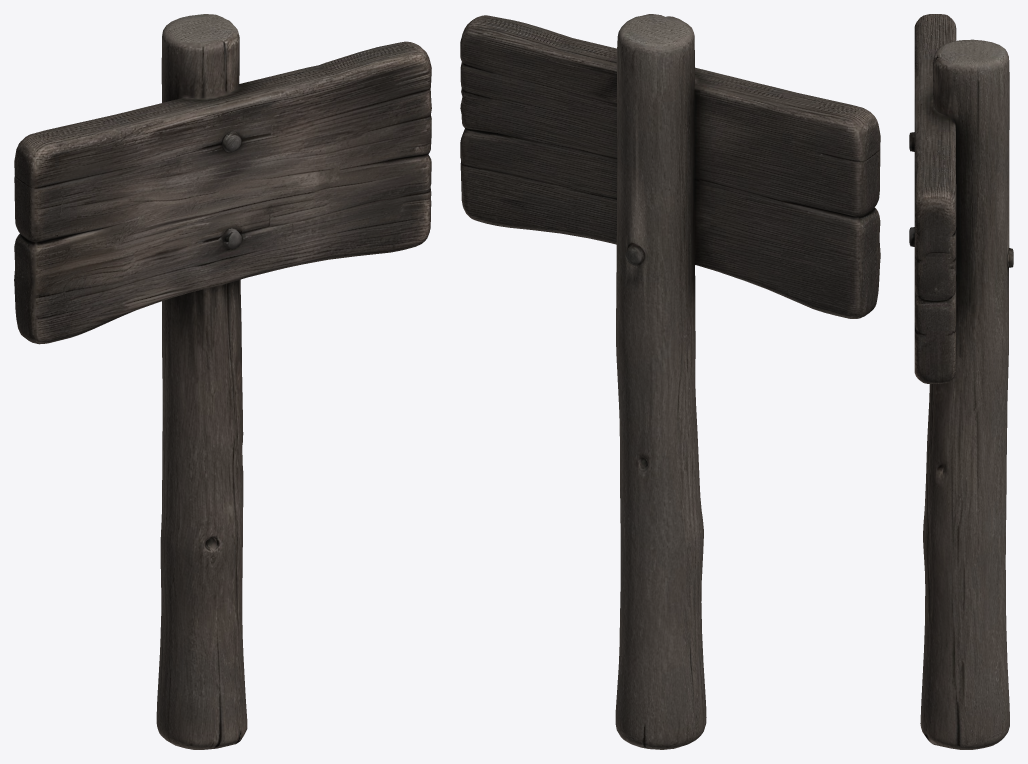
The model's file is away_sign.glb.
3 renders of one model, left to right at view 1: azimuth 30°, elevation 25°; view 2: azimuth 150°, elevation 25°; view 3: azimuth 270°, elevation 25°, orthographic. The views are drawn at different scales.
Visible parts, largest first — view 1: away_sign; view 2: away_sign; view 3: away_sign.
Boxes of the visible parts, x1,y1,x2,y2 form: away_sign: (14, 14, 431, 749); away_sign: (460, 14, 880, 749); away_sign: (909, 14, 1013, 749).
Size of the model in its own units: 0.6964 by 1.17 by 0.1612.
Materials: 1 (1 with a texture image).
